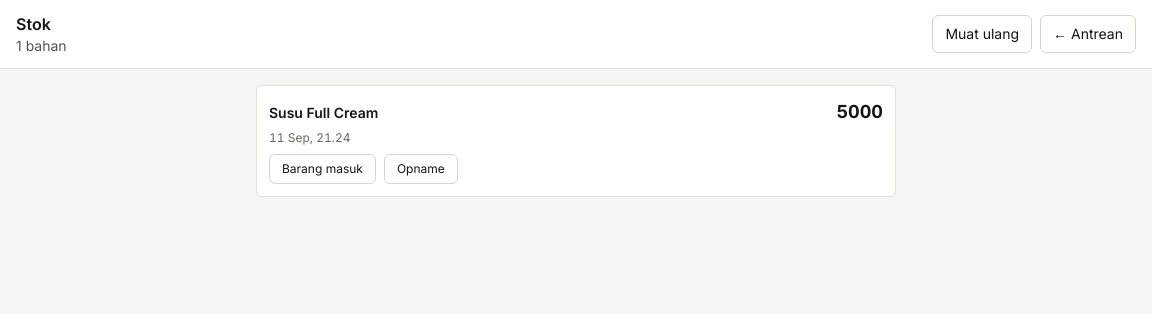
Test: mengubah stok › menolak "1.000" — pemisah ribuan yang dibaca JavaScript sebagai satu
Click the button "Opname" at (421, 169), box [384, 154, 458, 184]
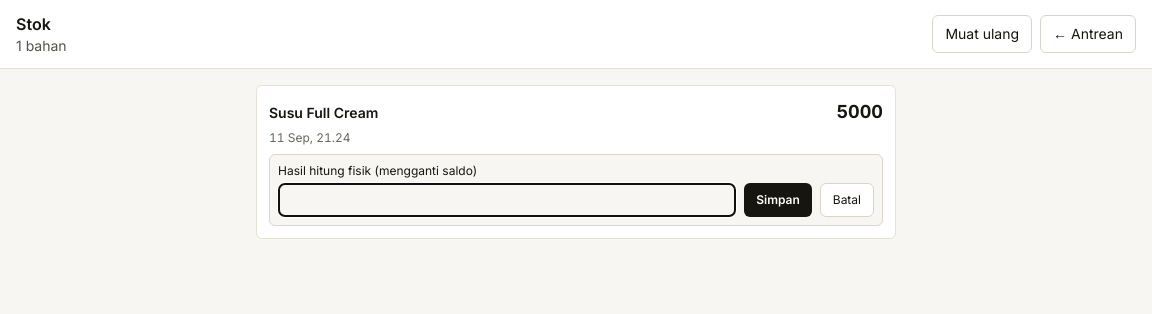
Type "1.000" into the field labelled "Hasil hitung fisik (mengganti saldo)" at (507, 200), box [278, 183, 736, 217]
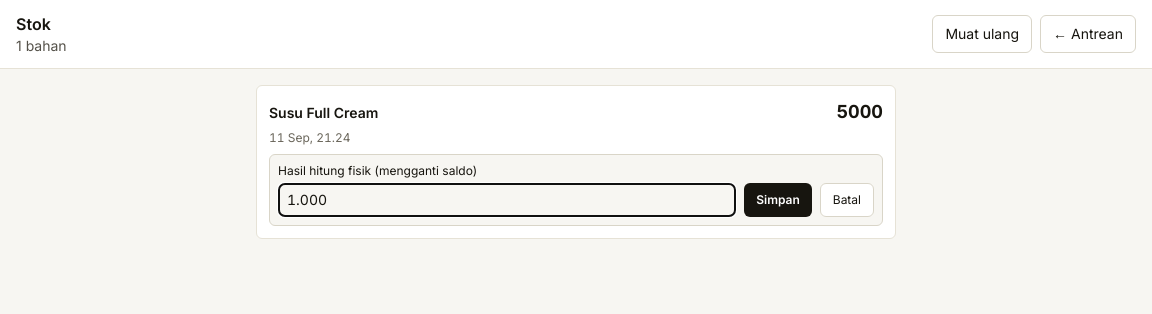
Click the button "Simpan" at (778, 200), box [744, 183, 812, 217]
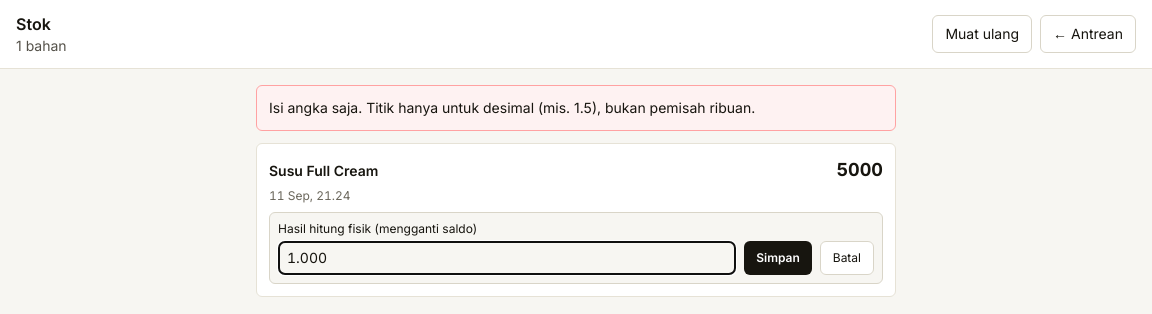
Expected: the message "Isi angka saja. Titik hanya untuk desimal (mis. 1.5), bukan pemisah ribuan." is shown, [256, 85, 896, 131]
